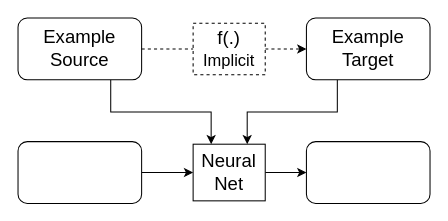
This 448x221 diagram has some shape labels left out. The shapes that lost their labels are listed below. From the top down, each one's box as (x1, y1, x2, y2) in pixels, then its label:
(17, 141, 142, 203): Input Source
(305, 141, 430, 203): Output Target
